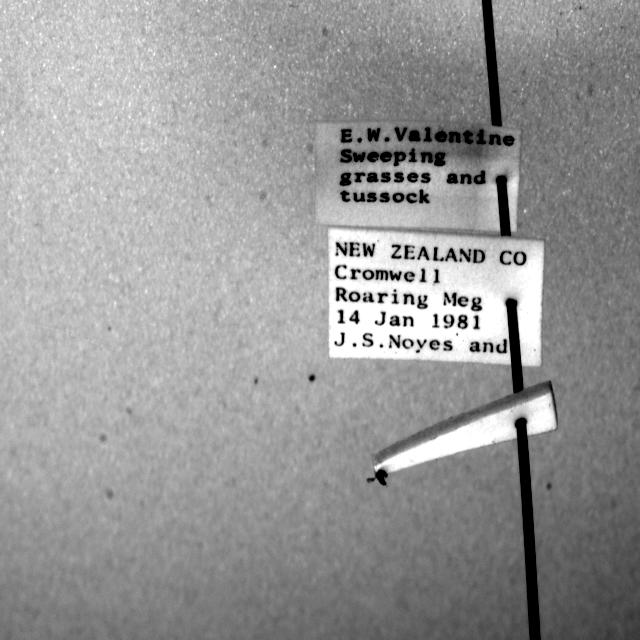typed_label: (329, 229, 544, 366), (315, 120, 521, 232)
